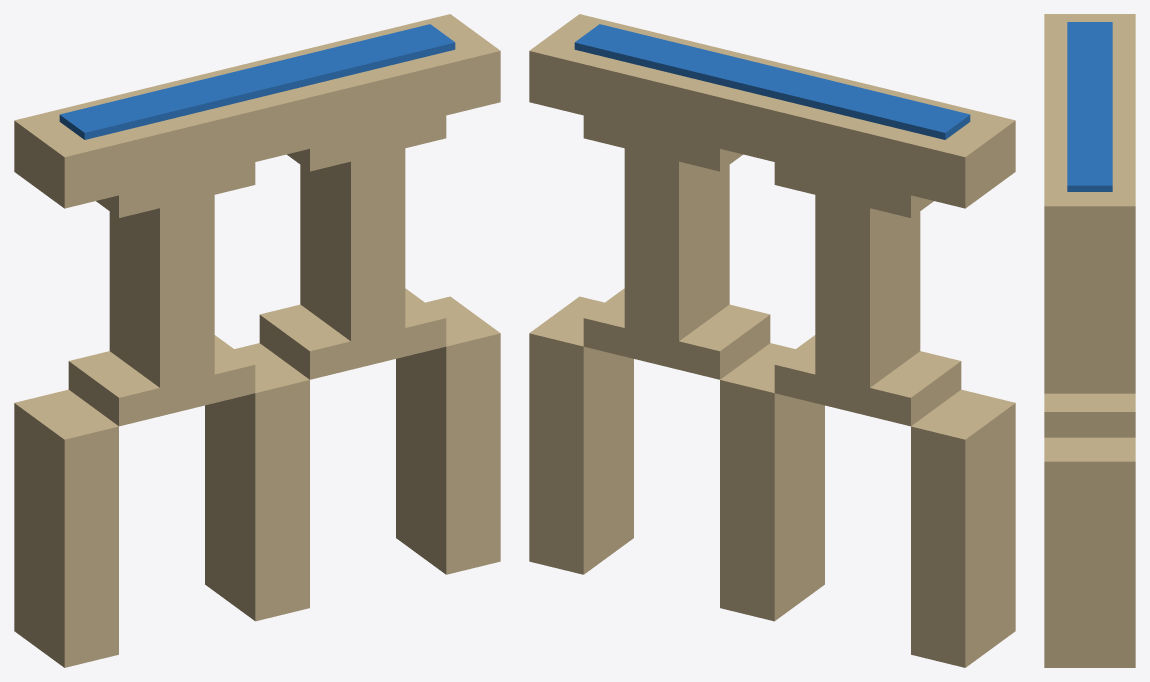
File: aqueduct_double.glb
3 renders of one model, left to right at view 1: azimuth 30°, elevation 25°; view 2: azimuth 150°, elevation 25°; view 3: azimuth 270°, elevation 25°, orthographic. The views are drawn at different scales.
Parts seen in each view (by area): view 1: aqueduct_double; view 2: aqueduct_double; view 3: aqueduct_double.
Boxes of the visible parts, <box> form: aqueduct_double: <box>14,14,500,667</box>; aqueduct_double: <box>529,14,1015,667</box>; aqueduct_double: <box>1044,14,1135,667</box>.
Bounding box in the file's own units: 8 × 9.07 × 1.6.
